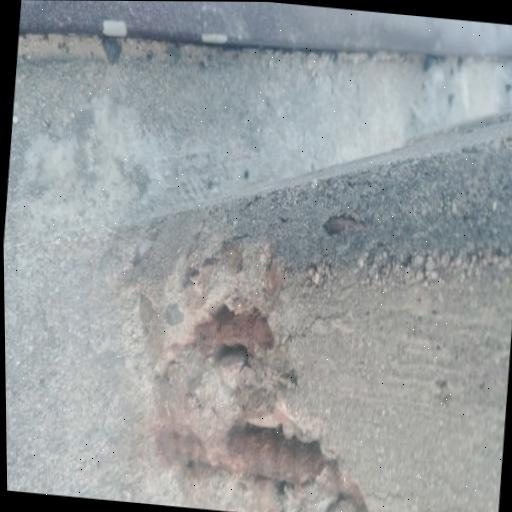exposed_rebar: (156, 424, 366, 512), (193, 304, 273, 354)
